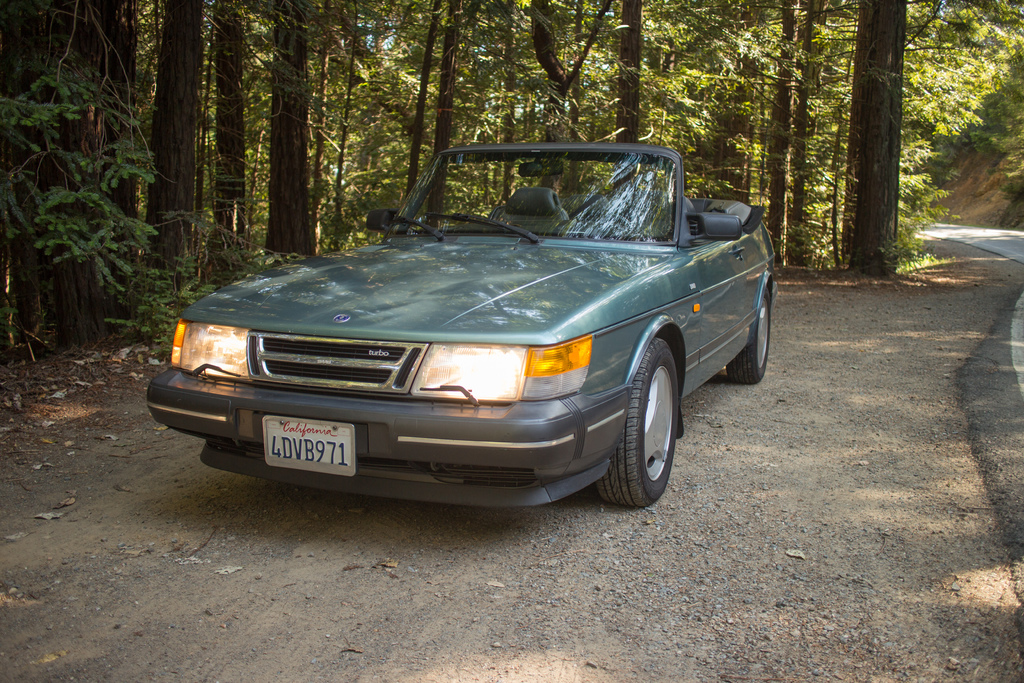Car: (140, 139, 778, 512)
